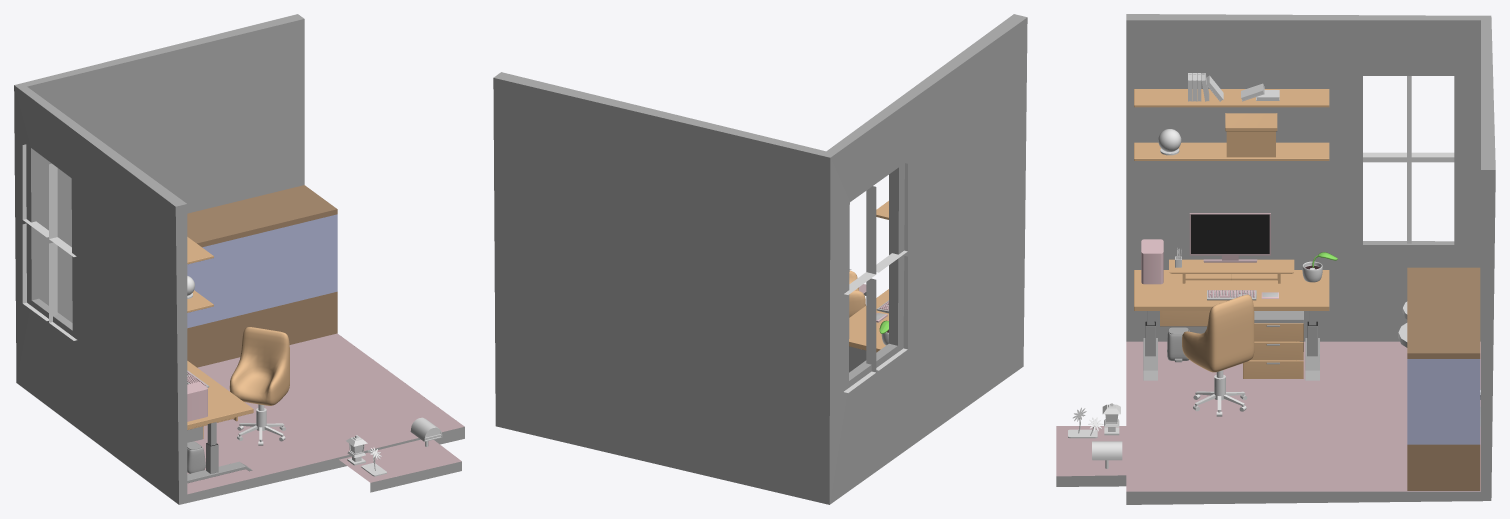
The model's file is room.glb.
3 views of the same model, side by side, from view 1: azimuth 30°, elevation 25°; view 2: azimuth 150°, elevation 25°; view 3: azimuth 270°, elevation 25° (orthographic). The views are drawn at different scales.
Visible parts, largest first — view 1: Cube.003, glass, Cube.113, Cube.112, Cube.117, Plane, table top, Cube.073, table leg, Cylinder.016, table low leg; view 2: Cube.003, Plane, table top; view 3: Cube.003, Cube.113, glass, table top, Cube.112, Cube.117, Screen, table top.006, table drawer.001, table top.005, table top.002, table top.007 (+8 smaller).
Part boxes in pixels (x1,y1,x2,y2): Cube.003: [14, 14, 464, 504]; glass: [187, 214, 337, 328]; Cube.113: [187, 185, 337, 367]; Cube.112: [229, 327, 289, 405]; Cube.117: [339, 439, 461, 492]; Plane: [22, 144, 76, 340]; table top: [187, 361, 253, 428]; Cube.073: [187, 382, 207, 421]; table leg: [206, 422, 218, 473]; Cylinder.016: [410, 417, 442, 441]; table low leg: [187, 461, 252, 483]; Cube.003: [493, 14, 1027, 504]; Plane: [844, 163, 907, 392]; table top: [849, 289, 888, 352]; Cube.003: [1126, 14, 1495, 504]; Cube.113: [1407, 267, 1480, 490]; glass: [1407, 359, 1480, 444]; table top: [1134, 270, 1329, 310]; Cube.112: [1182, 294, 1254, 372]; Cube.117: [1056, 426, 1126, 486]; Screen: [1191, 214, 1269, 254]; table top.006: [1134, 89, 1329, 107]; table drawer.001: [1243, 323, 1303, 378]; table top.005: [1134, 142, 1329, 160]; table top.002: [1169, 259, 1294, 283]; table top.007: [1225, 113, 1277, 157].
Size of the model in its own units: 16.75 by 16.79 by 19.93.
